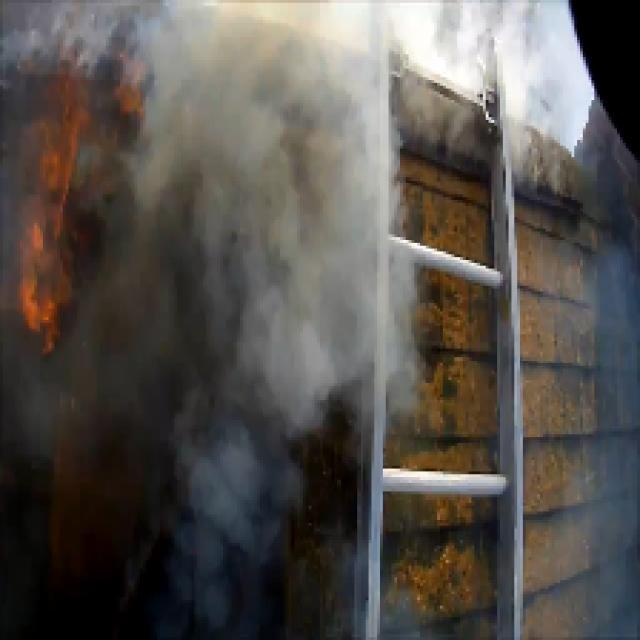Fire: (30, 119, 66, 333)
Smoke: (178, 21, 314, 640), (327, 49, 395, 362)
